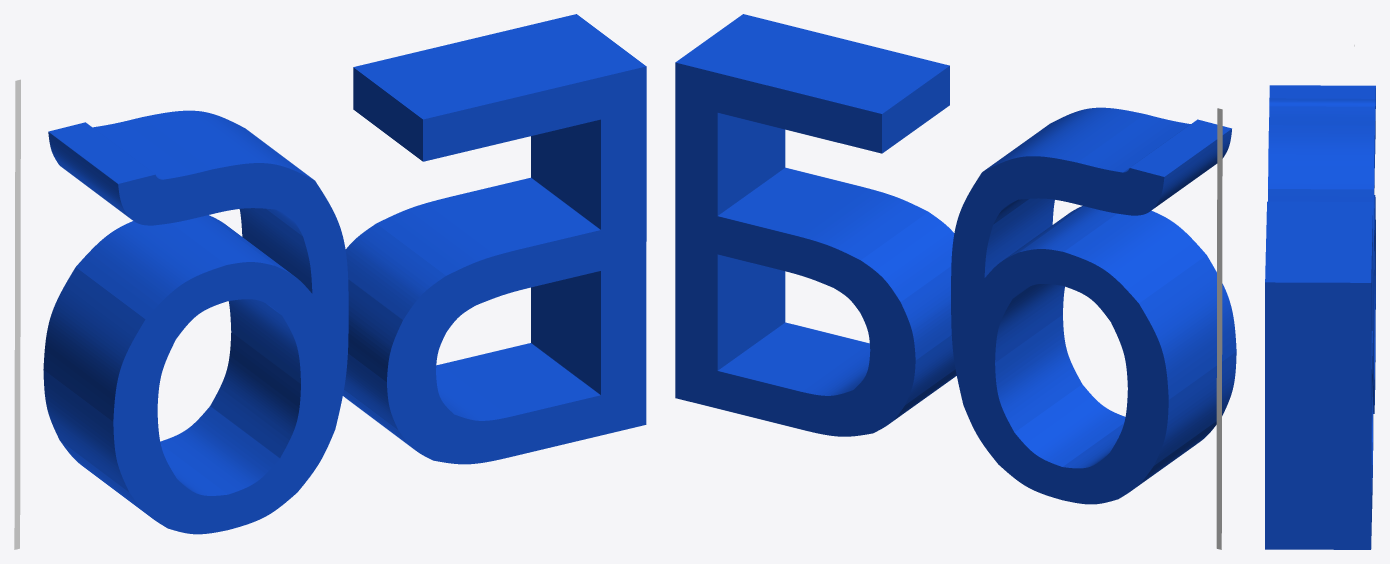
The picture shows the model from 3 angles, left to right: view 1: azimuth 30°, elevation 25°; view 2: azimuth 150°, elevation 25°; view 3: azimuth 270°, elevation 25°; orthographic projection. The views are drawn at different scales.
Parts seen in each view (by area): view 1: Mesh_0, Плоскость; view 2: Mesh_0, Плоскость; view 3: Mesh_0.
Part boxes in pixels (x1,y1,x2,y2): Mesh_0: (43,14,646,534); Плоскость: (14,79,20,549); Mesh_0: (675,14,1236,504); Плоскость: (1216,108,1222,549); Mesh_0: (1265,85,1375,549).
Size of the model in its own units: 11.97 by 9.38 by 2.69.
